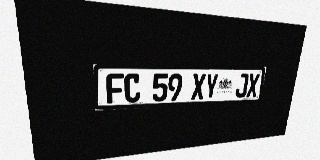5: (152, 73, 168, 102)
9: (167, 73, 183, 101)
C: (124, 73, 141, 103)
F: (106, 73, 124, 104)
J: (235, 74, 249, 98)
X: (191, 73, 206, 100), (246, 74, 260, 97)
Y: (204, 73, 219, 99)
